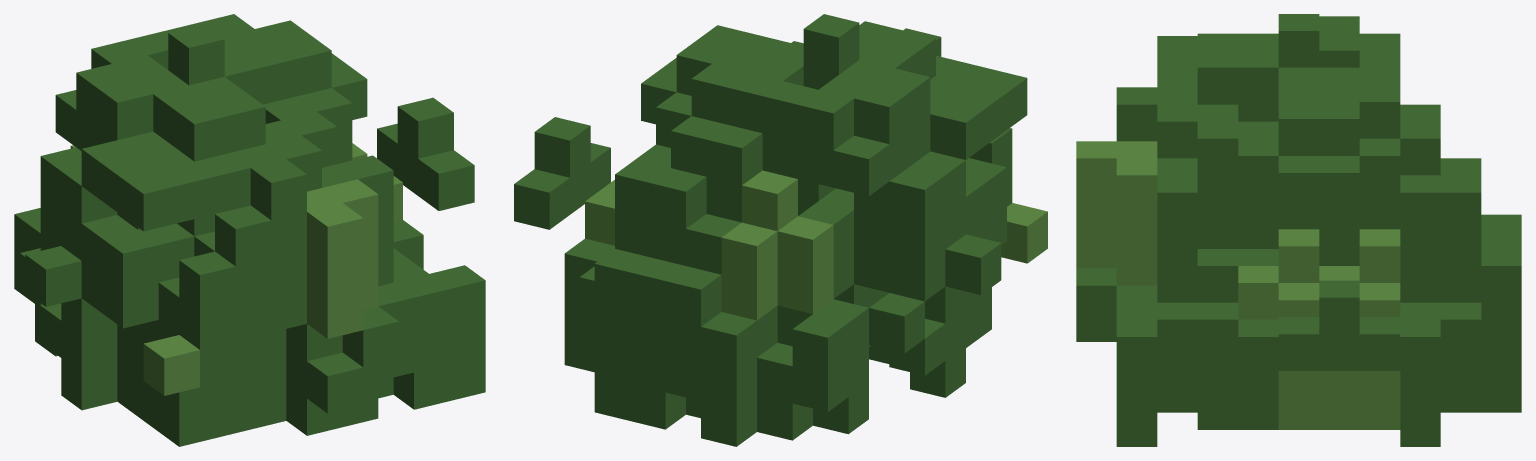
The model's file is bush_island_0.obj.
3 views of the same model, side by side, from view 1: azimuth 30°, elevation 25°; view 2: azimuth 150°, elevation 25°; view 3: azimuth 270°, elevation 25° (orthographic).
Size of the model in its own units: 0.9 by 0.675 by 0.825.
1 material, 1 textured.
